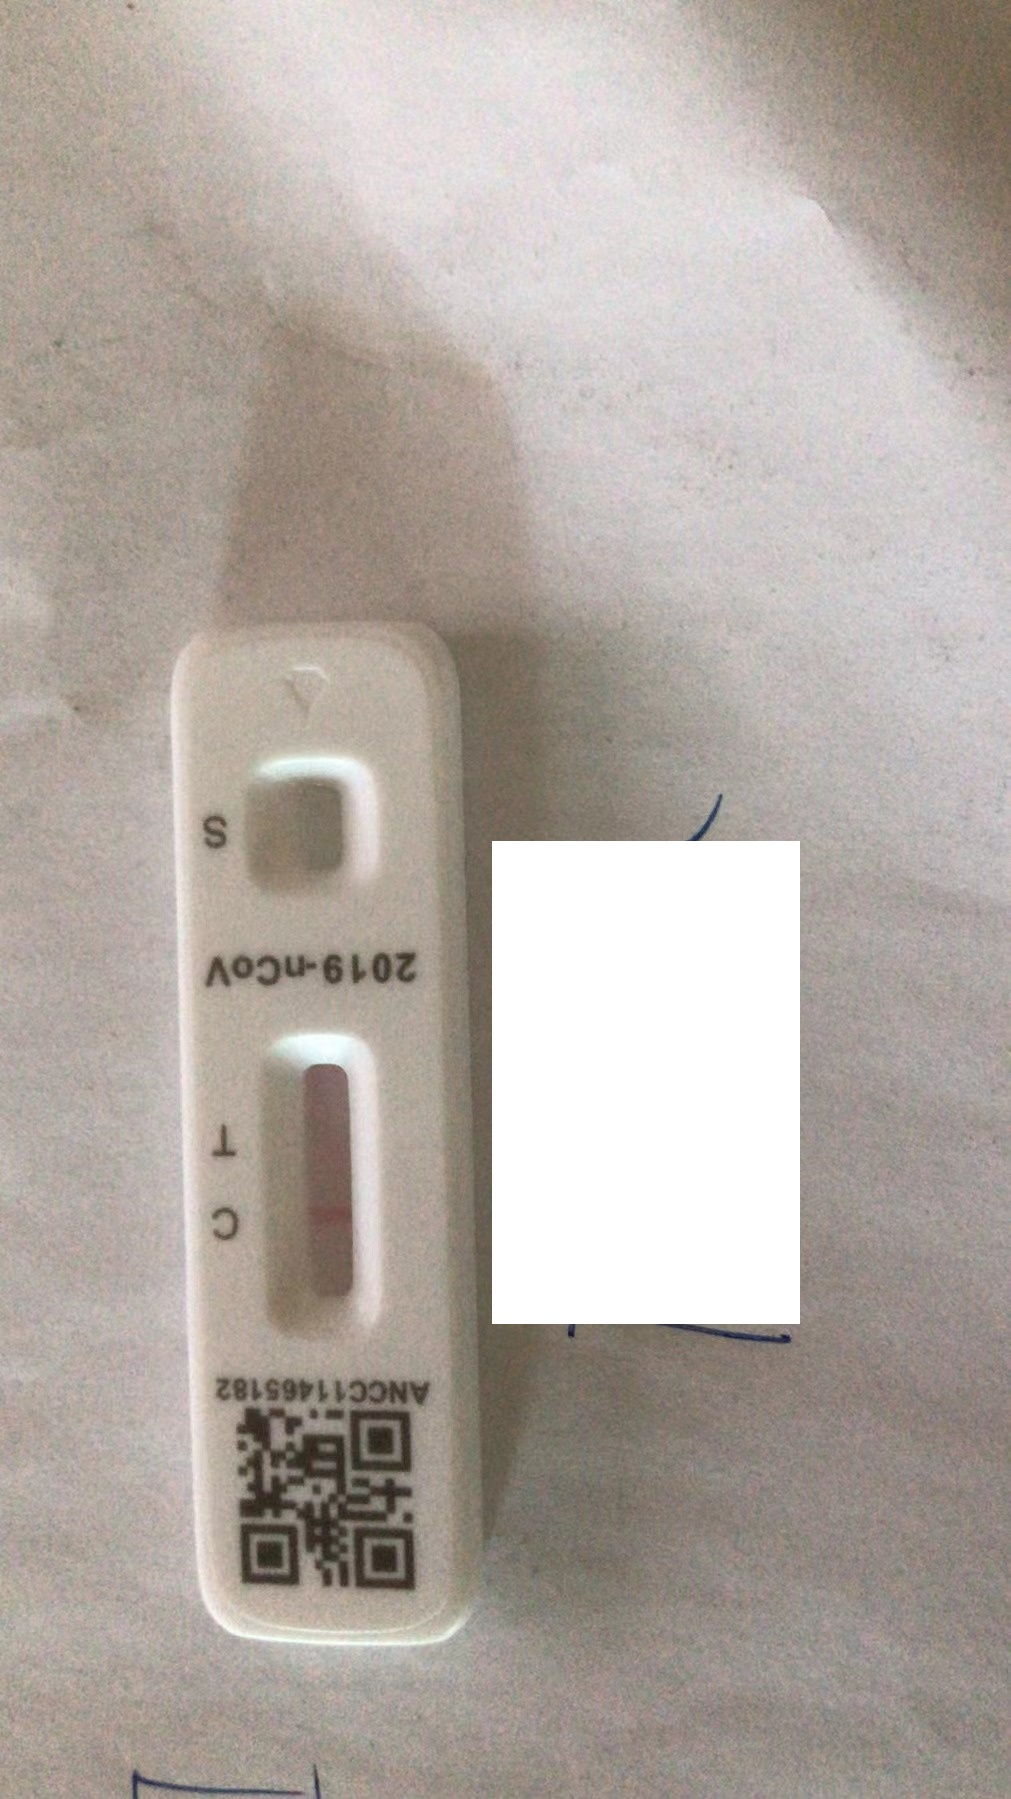negative: (260, 1035, 377, 1341)
